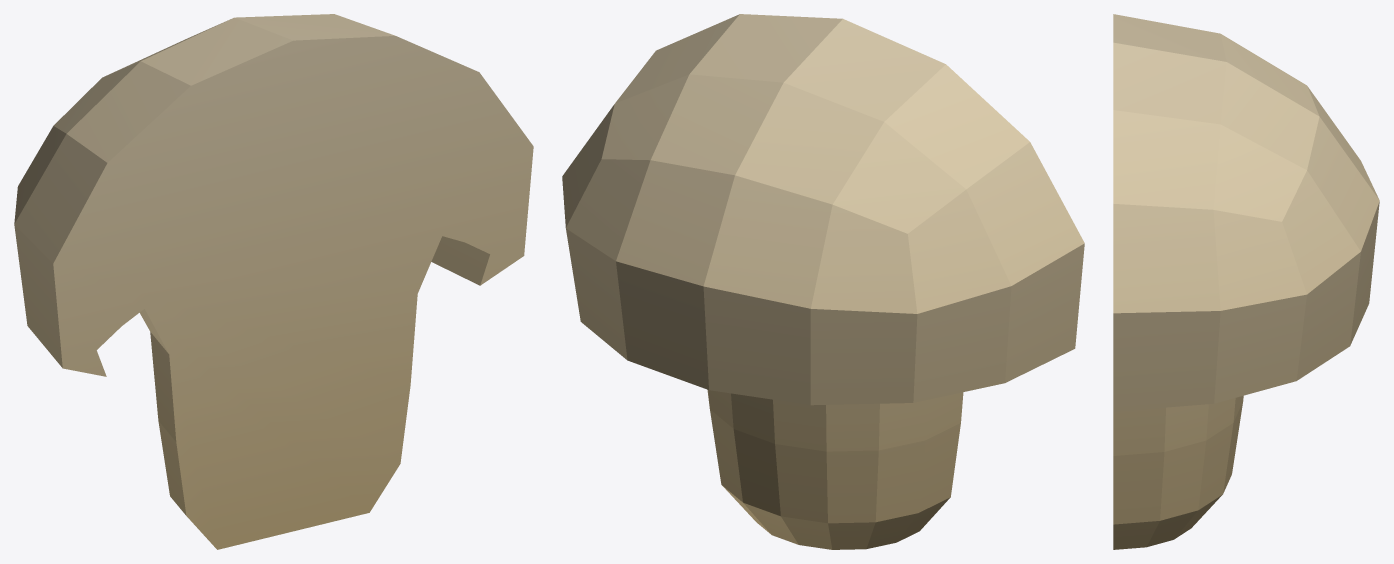
Rendered from mushroom_1b.fbx.
3 renders of one model, left to right at view 1: azimuth 30°, elevation 25°; view 2: azimuth 150°, elevation 25°; view 3: azimuth 270°, elevation 25°, orthographic. The views are drawn at different scales.
Parts seen in each view (by area): view 1: mushroom_1b; view 2: mushroom_1b; view 3: mushroom_1b.
Part boxes in pixels (x1,y1,x2,y2): mushroom_1b: [14, 14, 533, 549]; mushroom_1b: [562, 14, 1084, 549]; mushroom_1b: [1113, 14, 1379, 549].
Bounding box in the file's own units: 0.0617 × 0.0602 × 0.0309.
